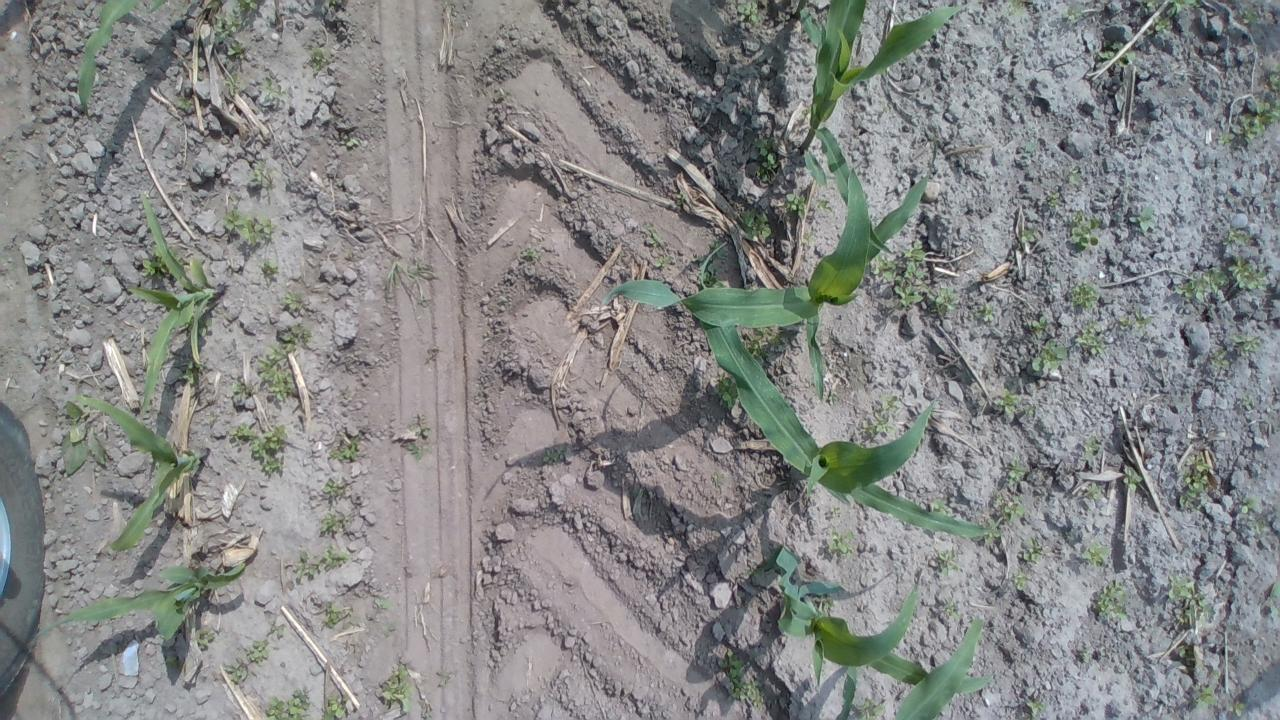Maize: (697, 238, 996, 556), (608, 166, 942, 406), (787, 0, 969, 271), (758, 543, 998, 712), (14, 550, 256, 668), (126, 184, 232, 422), (84, 385, 212, 561), (72, 3, 170, 126)
Weeds: (49, 397, 112, 472), (713, 646, 779, 714), (1229, 68, 1280, 146), (877, 239, 931, 309), (1162, 570, 1218, 636), (226, 422, 287, 480), (1185, 669, 1251, 720), (386, 255, 437, 312), (1224, 229, 1264, 295), (220, 208, 278, 250), (1176, 448, 1216, 508), (255, 344, 300, 397), (1086, 575, 1134, 624), (286, 548, 354, 582), (375, 662, 417, 714), (1172, 267, 1236, 301), (1024, 336, 1070, 382), (1206, 330, 1260, 368), (1072, 319, 1118, 363), (1140, 3, 1194, 40), (855, 397, 902, 439), (210, 2, 256, 42), (263, 687, 316, 720), (1232, 489, 1268, 536), (743, 320, 777, 369), (696, 238, 730, 287), (818, 528, 863, 564), (138, 246, 179, 283), (1064, 210, 1100, 252), (932, 543, 971, 580), (935, 590, 970, 630), (989, 492, 1030, 526), (712, 370, 748, 408), (400, 413, 428, 461), (644, 228, 676, 270), (1066, 280, 1106, 313), (742, 205, 775, 244), (1078, 540, 1118, 572), (753, 136, 783, 178), (314, 602, 359, 630), (318, 509, 356, 542), (992, 387, 1028, 421), (316, 694, 362, 720), (1013, 690, 1051, 720), (1108, 466, 1148, 494), (277, 324, 320, 350), (1003, 461, 1038, 492), (322, 478, 358, 508), (1019, 534, 1052, 566), (1128, 204, 1159, 238), (224, 660, 262, 687), (929, 279, 956, 317), (248, 158, 278, 192), (173, 357, 204, 389), (330, 432, 363, 462), (1098, 41, 1130, 71), (190, 626, 222, 654), (1118, 312, 1158, 334), (782, 188, 810, 218), (306, 48, 338, 74), (852, 697, 888, 720), (540, 441, 570, 468), (280, 288, 310, 315), (735, 0, 763, 28), (969, 295, 996, 324), (258, 77, 286, 104), (1042, 187, 1066, 218), (225, 376, 251, 402), (244, 640, 272, 664), (1026, 310, 1055, 332), (1076, 646, 1102, 670), (1058, 5, 1084, 27), (258, 260, 284, 282), (221, 77, 248, 97), (516, 243, 541, 264), (1268, 578, 1280, 620), (223, 43, 250, 61), (433, 666, 452, 691), (344, 133, 365, 155), (1016, 221, 1035, 245), (1004, 1, 1028, 18), (674, 188, 690, 212), (1008, 569, 1028, 588), (178, 92, 196, 112), (1068, 170, 1084, 192), (371, 595, 392, 610), (816, 196, 834, 213), (266, 619, 284, 636), (930, 496, 947, 513), (1240, 398, 1256, 414)
